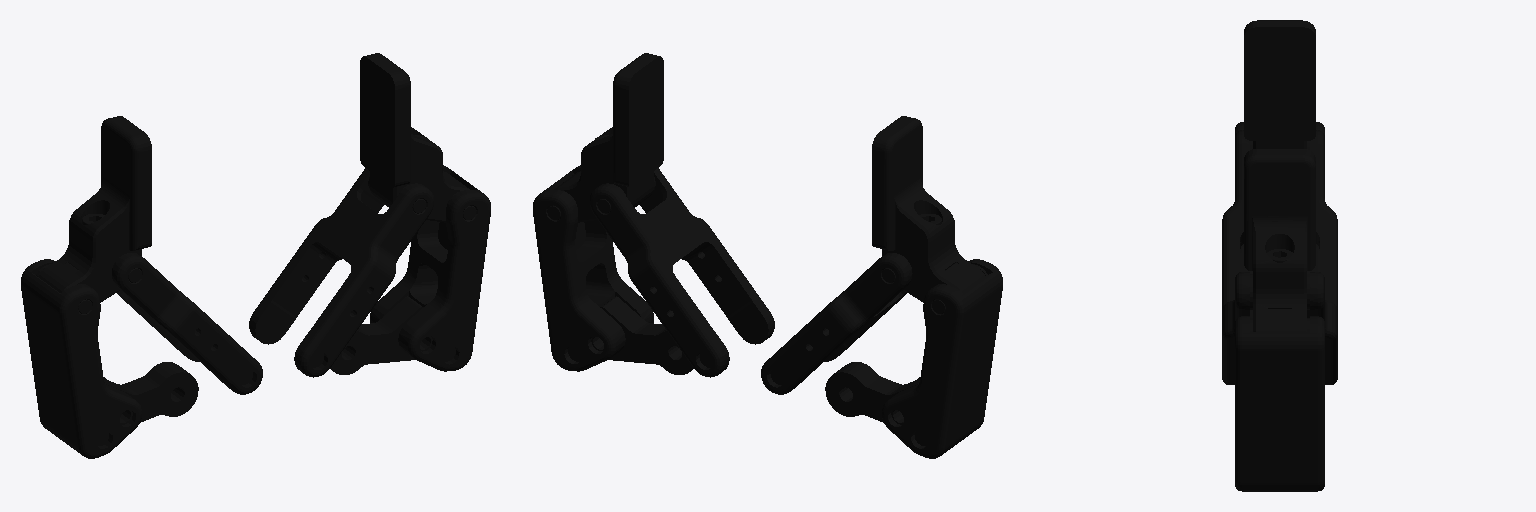
robot.urdf — robotiq_85:
<?xml version="1.0" ?>
<!-- =================================================================================== -->
<!-- |    This document was autogenerated by xacro from ros2_mara_ws/src/robotiq_modular_gripper/robotiq_85_gripper_description/urdf/robotiq_85_world.urdf.xacro | -->
<!-- |    EDITING THIS FILE BY HAND IS NOT RECOMMENDED                                 | -->
<!-- =================================================================================== -->
<robot name="robotiq_85" xmlns:xacro="http://ros.org/wiki/xacro">
  <link name="robotiq_arg2f_base_link">
    <inertial>
      <origin rpy="0 0 0" xyz="-0.00013 -0.00011 0.03284"/>
      <mass value="0.55938"/>
      <inertia ixx="605783E-9" ixy="-579.95E-9" ixz="2765.53E-9" iyy="720148E-9" iyz="618E-9" izz="510534E-9"/>
    </inertial>
    <visual>
      <origin rpy="0 0 0" xyz="0 0 0"/>
      <geometry>
        <mesh filename="package://robotiq_85_gripper_description/meshes/base_gripper.dae" scale="0.001 0.001 0.001"/>
      </geometry>
      <material name="Gazebo/Black">
        <color rgba="0.1 0.1 0.1 1"/>
      </material>
    </visual>
    <collision>
      <origin rpy="0 0 0" xyz="0 0 0"/>
      <geometry>
        <mesh filename="package://robotiq_85_gripper_description/meshes/base_gripper.dae" scale="0.001 0.001 0.001"/>
      </geometry>
    </collision>
  </link>
  <gazebo reference="robotiq_arg2f_base_link">
    <material>Gazebo/Black</material>
    <selfCollide>True</selfCollide>
  </gazebo>
  <link name="left_outer_knuckle">
    <inertial>
      <origin rpy="0 0 0" xyz="0.01545 0 -0.00118"/>
      <mass value="0.01252"/>
      <inertia ixx="312.44E-9" ixy="0" ixz="-168.09E-9" iyy="2156E-9" iyz="0" izz="2027.51E-9"/>
    </inertial>
    <visual>
      <origin rpy="0 0 0" xyz="0 0 0"/>
      <geometry>
        <mesh filename="package://robotiq_85_gripper_description/meshes/2-F-85_1_l.dae" scale="0.001 0.001 0.001"/>
      </geometry>
      <material name="Gazebo/Grey">
        <color rgba="0.1 0.1 0.1 1"/>
      </material>
    </visual>
    <collision>
      <origin rpy="0 0 0" xyz="0 0 0"/>
      <geometry>
        <mesh filename="package://robotiq_85_gripper_description/meshes/2-F-85_1_l.dae" scale="0.001 0.001 0.001"/>
      </geometry>
    </collision>
  </link>
  <gazebo reference="left_outer_knuckle">
    <material>Gazebo/Grey</material>
    <selfCollide>True</selfCollide>
  </gazebo>
  <link name="right_outer_knuckle">
    <inertial>
      <origin rpy="0 0 0" xyz="-0.01545 0 -0.00118"/>
      <mass value="0.01252"/>
      <inertia ixx="312.44E-9" ixy="0" ixz="-168.09E-9" iyy="2156E-9" iyz="0" izz="2027.51E-9"/>
    </inertial>
    <visual>
      <origin rpy="0 0 0" xyz="0 0 0"/>
      <geometry>
        <mesh filename="package://robotiq_85_gripper_description/meshes/2-F-85_1_r.dae" scale="0.001 0.001 0.001"/>
      </geometry>
      <material name="Gazebo/Grey">
        <color rgba="0.1 0.1 0.1 1"/>
      </material>
    </visual>
    <collision>
      <origin rpy="0 0 0" xyz="0 0 0"/>
      <geometry>
        <mesh filename="package://robotiq_85_gripper_description/meshes/2-F-85_1_r.dae" scale="0.001 0.001 0.001"/>
      </geometry>
    </collision>
  </link>
  <gazebo reference="right_outer_knuckle">
    <material>Gazebo/Grey</material>
    <selfCollide>True</selfCollide>
  </gazebo>
  <link name="left_outer_finger">
    <inertial>
      <origin rpy="0 0 0" xyz="0.004 0 0.01892"/>
      <mass value="0.03848"/>
      <inertia ixx="12341E-9" ixy="0" ixz="-2152.21E-9" iyy="10617E-9" iyz="0" izz="4812.09E-9"/>
    </inertial>
    <visual>
      <origin rpy="0 0 0" xyz="0 0 0"/>
      <geometry>
        <mesh filename="package://robotiq_85_gripper_description/meshes/2-F-85_3_l.dae" scale="0.001 0.001 0.001"/>
      </geometry>
      <material name="Gazebo/Black">
        <color rgba="0.1 0.1 0.1 1"/>
      </material>
    </visual>
    <collision>
      <origin rpy="0 0 0" xyz="0 0 0"/>
      <geometry>
        <mesh filename="package://robotiq_85_gripper_description/meshes/2-F-85_3_l.dae" scale="0.001 0.001 0.001"/>
      </geometry>
    </collision>
  </link>
  <gazebo reference="left_outer_finger">
    <material>Gazebo/Black</material>
    <selfCollide>True</selfCollide>
  </gazebo>
  <link name="right_outer_finger">
    <inertial>
      <origin rpy="0 0 0" xyz="-0.004 0 0.01892"/>
      <mass value="0.03848"/>
      <inertia ixx="12341E-9" ixy="0" ixz="-2152.21E-9" iyy="10617E-9" iyz="0" izz="4812.09E-9"/>
    </inertial>
    <visual>
      <origin rpy="0 0 0" xyz="0 0 0"/>
      <geometry>
        <mesh filename="package://robotiq_85_gripper_description/meshes/2-F-85_3_r.dae" scale="0.001 0.001 0.001"/>
      </geometry>
      <material name="Gazebo/Black">
        <color rgba="0.1 0.1 0.1 1"/>
      </material>
    </visual>
    <collision>
      <origin rpy="0 0 0" xyz="0 0 0"/>
      <geometry>
        <mesh filename="package://robotiq_85_gripper_description/meshes/2-F-85_3_r.dae" scale="0.001 0.001 0.001"/>
      </geometry>
    </collision>
  </link>
  <gazebo reference="right_outer_finger">
    <material>Gazebo/Black</material>
    <selfCollide>True</selfCollide>
  </gazebo>
  <link name="left_inner_knuckle">
    <inertial>
      <origin rpy="0 0 0" xyz="0.01952 0 0.022"/>
      <mass value="0.02731"/>
      <inertia ixx="8621.3E-9" ixy="0" ixz="-3646.49E-9" iyy="8004.28E-9" iyz="0" izz="7704.42E-9"/>
    </inertial>
    <visual>
      <origin rpy="0 0 0" xyz="0 0 0"/>
      <geometry>
        <mesh filename="package://robotiq_85_gripper_description/meshes/2-F-85_2_l.dae" scale="0.001 0.001 0.001"/>
      </geometry>
      <material name="Gazebo/Black">
        <color rgba="0.1 0.1 0.1 1"/>
      </material>
    </visual>
    <collision>
      <origin rpy="0 0 0" xyz="0 0 0"/>
      <geometry>
        <mesh filename="package://robotiq_85_gripper_description/meshes/2-F-85_2_l.dae" scale="0.001 0.001 0.001"/>
      </geometry>
    </collision>
  </link>
  <gazebo reference="left_inner_knuckle">
    <material>Gazebo/Black</material>
    <selfCollide>True</selfCollide>
  </gazebo>
  <link name="right_inner_knuckle">
    <inertial>
      <origin rpy="0 0 0" xyz="-0.01952 0 0.022"/>
      <mass value="0.02731"/>
      <inertia ixx="8621.3E-9" ixy="0" ixz="-3646.49E-9" iyy="8004.28E-9" iyz="0" izz="7704.42E-9"/>
    </inertial>
    <visual>
      <origin rpy="0 0 0" xyz="0 0 0"/>
      <geometry>
        <mesh filename="package://robotiq_85_gripper_description/meshes/2-F-85_2_r.dae" scale="0.001 0.001 0.001"/>
      </geometry>
      <material name="Gazebo/Black">
        <color rgba="0.1 0.1 0.1 1"/>
      </material>
    </visual>
    <collision>
      <origin rpy="0 0 0" xyz="0 0 0"/>
      <geometry>
        <mesh filename="package://robotiq_85_gripper_description/meshes/2-F-85_2_r.dae" scale="0.001 0.001 0.001"/>
      </geometry>
    </collision>
  </link>
  <gazebo reference="right_inner_knuckle">
    <material>Gazebo/Black</material>
    <selfCollide>True</selfCollide>
  </gazebo>
  <link name="left_inner_finger">
    <inertial>
      <origin rpy="0 0 0" xyz="-0.01409 0 0.01569"/>
      <mass value="0.037"/>
      <inertia ixx="12446.57E-9" ixy="0" ixz="4167.81E-9" iyy="14201.18E-9" iyz="0" izz="4979.86E-9"/>
    </inertial>
    <visual>
      <origin rpy="0 0 0" xyz="0 0 0"/>
      <geometry>
        <mesh filename="package://robotiq_85_gripper_description/meshes/2-F-85_4_l.dae" scale="0.001 0.001 0.001"/>
      </geometry>
      <material name="Gazebo/Black">
        <color rgba="0.1 0.1 0.1 1"/>
      </material>
    </visual>
    <collision>
      <origin rpy="0 0 0" xyz="0 0 0"/>
      <geometry>
        <mesh filename="package://robotiq_85_gripper_description/meshes/2-F-85_4_l.dae" scale="0.001 0.001 0.001"/>
      </geometry>
    </collision>
  </link>
  <gazebo reference="left_inner_finger">
    <material>Gazebo/Black</material>
    <selfCollide>True</selfCollide>
  </gazebo>
  <link name="right_inner_finger">
    <inertial>
      <origin rpy="0 0 0" xyz="0.01409 0 0.01569"/>
      <mass value="0.037"/>
      <inertia ixx="12446.57E-9" ixy="0" ixz="4167.81E-9" iyy="14201.18E-9" iyz="0" izz="4979.86E-9"/>
    </inertial>
    <visual>
      <origin rpy="0 0 0" xyz="0 0 0"/>
      <geometry>
        <mesh filename="package://robotiq_85_gripper_description/meshes/2-F-85_4_r.dae" scale="0.001 0.001 0.001"/>
      </geometry>
      <material name="Gazebo/Black">
        <color rgba="0.1 0.1 0.1 1"/>
      </material>
    </visual>
    <collision>
      <origin rpy="0 0 0" xyz="0 0 0"/>
      <geometry>
        <mesh filename="package://robotiq_85_gripper_description/meshes/2-F-85_4_r.dae" scale="0.001 0.001 0.001"/>
      </geometry>
    </collision>
  </link>
  <gazebo reference="right_inner_finger">
    <material>Gazebo/Black</material>
    <selfCollide>True</selfCollide>
  </gazebo>
  <joint name="robotiq_arg2f_base_link_to_left_outer_knuckle" type="revolute">
    <origin rpy="0 0 0" xyz="0.0306 0 0.05466"/>
    <parent link="robotiq_arg2f_base_link"/>
    <child link="left_outer_knuckle"/>
    <axis xyz="0 -1 0"/>
    <limit effort="21.03" lower="0" upper="0.82589" velocity="3.87"/>
    <mimic joint="joint_finger" multiplier="1" offset="0"/>
  </joint>
  <joint name="joint_finger" type="revolute">
    <origin rpy="0 0 0" xyz="-0.0306 0 0.05466"/>
    <parent link="robotiq_arg2f_base_link"/>
    <child link="right_outer_knuckle"/>
    <axis xyz="0 1 0"/>
    <limit effort="21.03" lower="0" upper="0.82589" velocity="3.87"/>
  </joint>
  <joint name="robotiq_arg2f_base_link_to_left_inner_knuckle" type="revolute">
    <origin rpy="0 0 0" xyz="0.0127 0 0.06118"/>
    <parent link="robotiq_arg2f_base_link"/>
    <child link="left_inner_knuckle"/>
    <axis xyz="0 -1 0"/>
    <limit effort="21.03" lower="0" upper="0.82589" velocity="3.87"/>
    <mimic joint="joint_finger" multiplier="1" offset="0"/>
  </joint>
  <joint name="robotiq_arg2f_base_link_to_right_inner_knuckle" type="revolute">
    <origin rpy="0 0 0" xyz="-0.0127 0 0.06118"/>
    <parent link="robotiq_arg2f_base_link"/>
    <child link="right_inner_knuckle"/>
    <axis xyz="0 1 0"/>
    <limit effort="21.03" lower="0" upper="0.82589" velocity="3.87"/>
    <mimic joint="joint_finger" multiplier="1" offset="0"/>
  </joint>
  <joint name="left_outer_finger_to_inner" type="revolute">
    <origin rpy="0 0 0" xyz="0.00678 0 0.04703"/>
    <parent link="left_outer_finger"/>
    <child link="left_inner_finger"/>
    <axis xyz="0 1 0"/>
    <limit effort="21.03" lower="0" upper="0.82589" velocity="3.87"/>
    <mimic joint="joint_finger" multiplier="1" offset="0"/>
  </joint>
  <joint name="right_outer_finger_to_inner" type="revolute">
    <origin rpy="0 0 0" xyz="-0.00678 0 0.04703"/>
    <parent link="right_outer_finger"/>
    <child link="right_inner_finger"/>
    <axis xyz="0 -1 0"/>
    <limit effort="21.03" lower="0" upper="0.82589" velocity="3.87"/>
    <mimic joint="joint_finger" multiplier="1" offset="0"/>
  </joint>
  <joint name="left_outer_knuckle_to_finger" type="fixed">
    <origin rpy="0 0 0" xyz="0.03142 0 -0.00453"/>
    <parent link="left_outer_knuckle"/>
    <child link="left_outer_finger"/>
  </joint>
  <joint name="right_outer_knuckle_to_finger" type="fixed">
    <origin rpy="0 0 0" xyz="-0.03142 0 -0.00453"/>
    <parent link="right_outer_knuckle"/>
    <child link="right_outer_finger"/>
  </joint>
  <gazebo>
    <joint name="left_inner_knuckle_to_finger" type="revolute">
      <pose frame="">-0.0179 0 0.00652 0 0 0</pose>
      <parent>robotiq85::left_inner_knuckle</parent>
      <child>robotiq85::left_inner_finger</child>
      <axis>
        <xyz>0 1 0</xyz>
        <limit>
          <lower>0</lower>
          <upper>0.82589</upper>
          <velocity>3.87</velocity>
          <effort>21.03</effort>
        </limit>
      </axis>
    </joint>
    <joint name="right_inner_knuckle_to_finger" type="revolute">
      <pose frame="">0.0179 0 0.00652 0 0 0</pose>
      <parent>robotiq85::right_inner_knuckle</parent>
      <child>robotiq85::right_inner_finger</child>
      <axis>
        <xyz>0 -1 0</xyz>
        <limit>
          <lower>0</lower>
          <upper>0.82589</upper>
          <velocity>3.87</velocity>
          <effort>21.03</effort>
        </limit>
      </axis>
    </joint>
    <plugin filename="librobotiq_gripper_gazebo_plugin.so" name="hrim_actuation_gripper_000000000004">
      <joint>robotiq_arg2f_base_link_to_left_inner_knuckle</joint>
      <joint>robotiq_arg2f_base_link_to_left_outer_knuckle</joint>
      <joint>robotiq_arg2f_base_link_to_right_inner_knuckle</joint>
      <joint>joint_finger</joint>
    </plugin>
    <plugin filename="libgazebo_ros_joint_state_publisher.so" name="mara_joint_state">
      <ros>
        <argument>~/out:=joint_states</argument>
      </ros>
      <update_rate>25</update_rate>
      <joint_name>joint_finger</joint_name>
    </plugin>
  </gazebo>
  <link name="world"/>
  <joint name="world_to_robotiq_arg2f_base" type="fixed">
    <origin rpy="0 0 0" xyz="0 0 0.5"/>
    <parent link="world"/>
    <child link="robotiq_arg2f_base_link"/>
  </joint>
</robot>

--- Facts derived from the render (not from the file) ---
3 views of the same robot in one strip: view 1: azimuth 30°, elevation 25°; view 2: azimuth 150°, elevation 25°; view 3: azimuth 270°, elevation 25° (orthographic).
Robot: robotiq_85 — 10 links, 9 joints (6 revolute, 3 fixed); root link world; default pose: every joint at zero.
Links seen in each view (by area): view 1: left_inner_knuckle, right_outer_finger, left_outer_finger, right_inner_finger, left_inner_finger, right_inner_knuckle, left_outer_knuckle, right_outer_knuckle; view 2: left_inner_knuckle, right_outer_finger, left_outer_finger, right_inner_finger, left_inner_finger, right_inner_knuckle, left_outer_knuckle, right_outer_knuckle; view 3: left_outer_finger, left_inner_finger, right_inner_finger, right_inner_knuckle, left_inner_knuckle.
Link boxes in pixels (x1,y1,x2,y2): left_inner_knuckle: (249,168,433,377); right_outer_finger: (21,259,141,458); left_outer_finger: (370,165,490,371); right_inner_finger: (36,116,151,313); left_inner_finger: (360,53,476,222); right_inner_knuckle: (112,253,262,394); left_outer_knuckle: (330,296,423,374); right_outer_knuckle: (104,362,198,422); left_inner_knuckle: (590,168,774,377); right_outer_finger: (882,259,1002,458); left_outer_finger: (533,165,653,371); right_inner_finger: (872,116,987,313); left_inner_finger: (547,53,663,222); right_inner_knuckle: (761,253,911,394); left_outer_knuckle: (600,296,693,374); right_outer_knuckle: (825,362,919,422); left_outer_finger: (1235,316,1324,491); left_inner_finger: (1244,149,1315,331); right_inner_finger: (1244,20,1315,149); right_inner_knuckle: (1222,130,1337,308); left_inner_knuckle: (1222,272,1337,384).
Size in the robot's own frame: 0.1546 by 0.035 by 0.1044 metres.
8 mesh visuals loaded from 9 distinct referenced files (8 Collada DAE); not drawn: 1 (reference not matched to a file when rendering).
